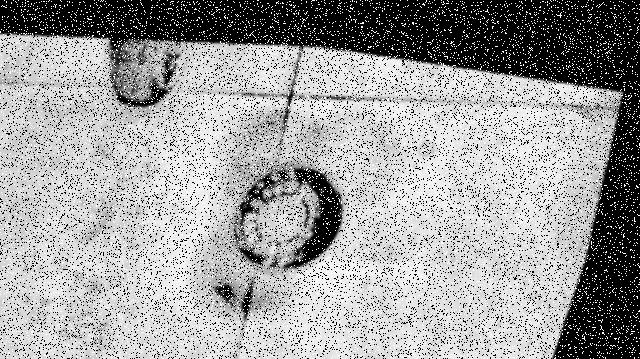pot: (227, 162, 346, 275)
